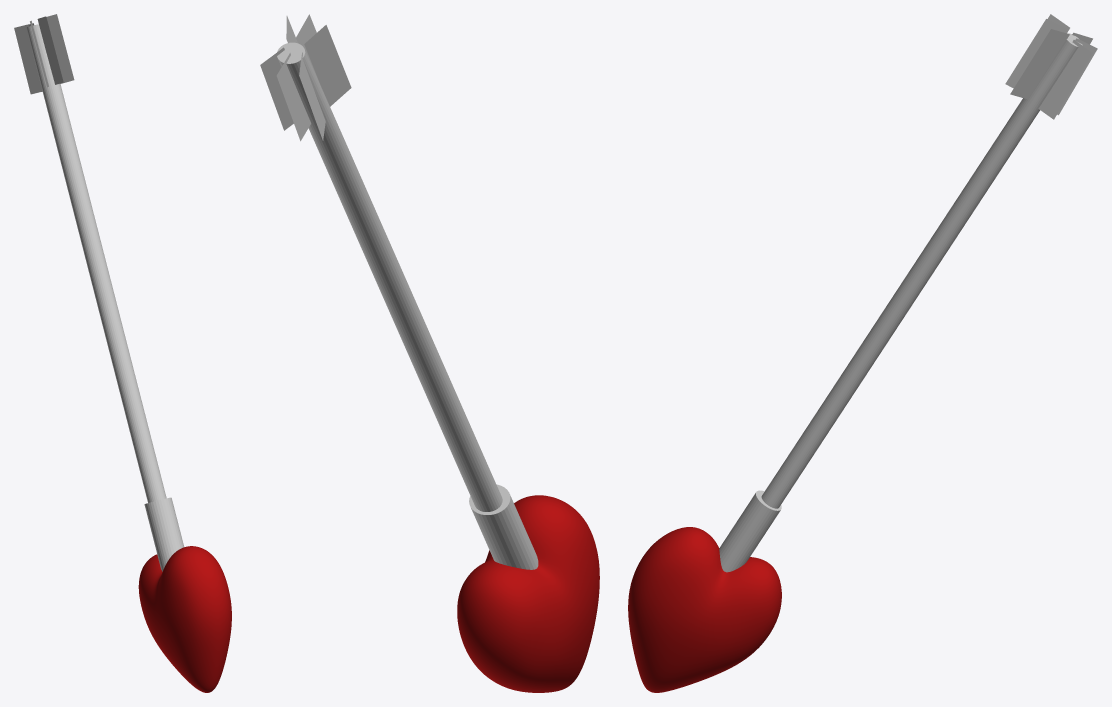
The model's file is omd.obj.
3 renders of one model, left to right at view 1: azimuth 30°, elevation 25°; view 2: azimuth 150°, elevation 25°; view 3: azimuth 270°, elevation 25°, orthographic. The views are drawn at different scales.
Visible parts, largest first — view 1: 12190_Heart_v1_L3.002, Cylinder.001, Cylinder.002, Plane.003, Plane.001, Plane; view 2: 12190_Heart_v1_L3.002, Cylinder.001, Cylinder.002, Plane.002, Plane.005, Plane.004, Plane.003; view 3: 12190_Heart_v1_L3.002, Cylinder.001, Cylinder.002, Plane.001, Plane.004, Plane.
Boxes of the visible parts, bbox=[...] form: 12190_Heart_v1_L3.002: bbox=[138, 546, 231, 692]; Cylinder.001: bbox=[26, 24, 166, 502]; Cylinder.002: bbox=[144, 497, 184, 571]; Plane.003: bbox=[14, 24, 42, 94]; Plane.001: bbox=[46, 14, 74, 83]; Plane: bbox=[37, 16, 63, 84]; 12190_Heart_v1_L3.002: bbox=[457, 495, 599, 692]; Cylinder.001: bbox=[277, 42, 502, 511]; Cylinder.002: bbox=[469, 484, 538, 569]; Plane.002: bbox=[304, 25, 351, 106]; Plane.005: bbox=[276, 53, 310, 141]; Plane.004: bbox=[260, 47, 293, 130]; Plane.003: bbox=[299, 52, 325, 140]; 12190_Heart_v1_L3.002: bbox=[628, 527, 781, 692]; Cylinder.001: bbox=[761, 33, 1082, 508]; Cylinder.002: bbox=[719, 490, 781, 572]; Plane.001: bbox=[1010, 29, 1069, 99]; Plane.004: bbox=[1038, 40, 1092, 119]; Plane: bbox=[1005, 19, 1066, 88].
Bounding box in the file's own units: 0.2517 × 2.2 × 1.39.
